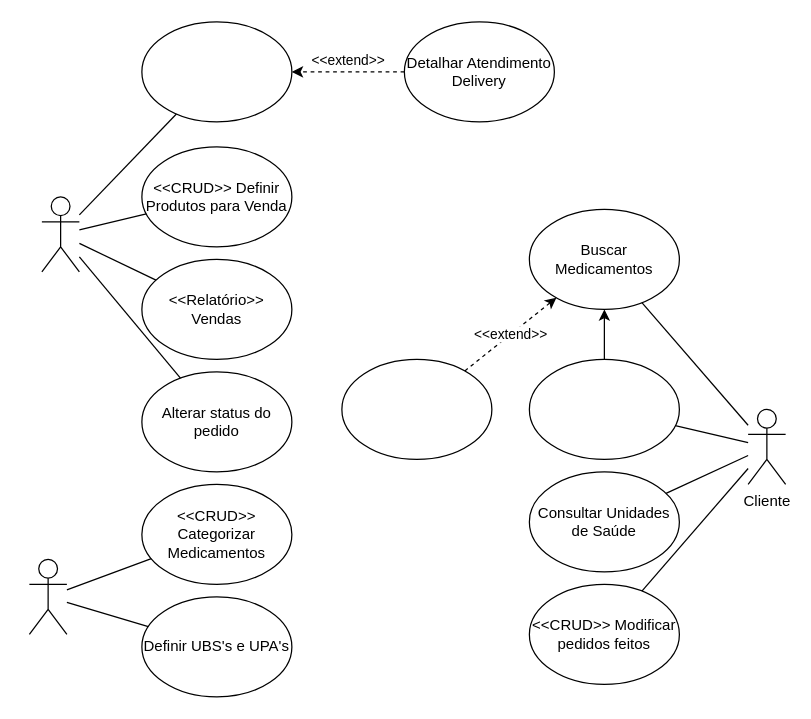
Some shapes in this 811 by 719 pixel diagram are drawn without their labels. The centre of each missing label's shape, as x and y in pixels:
"Buscar Farmácia" belongs at pixel 603 408.
"Configurar Perfil da Farmácia" belongs at pixel 216 71.
"Criar Pedido" belongs at pixel 416 408.
"Farmácia" belongs at pixel 60 234.
"Sistema" belongs at pixel 47 596.
